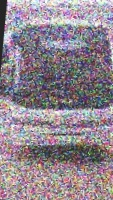bus: (0, 9, 113, 158)
